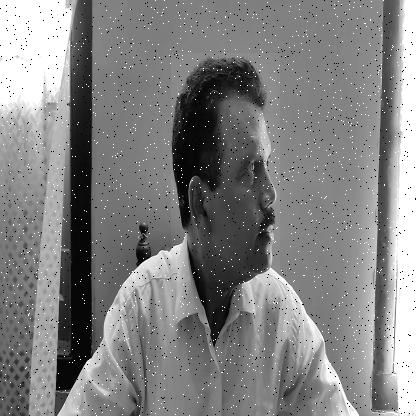Distracted: (171, 53, 280, 282)
